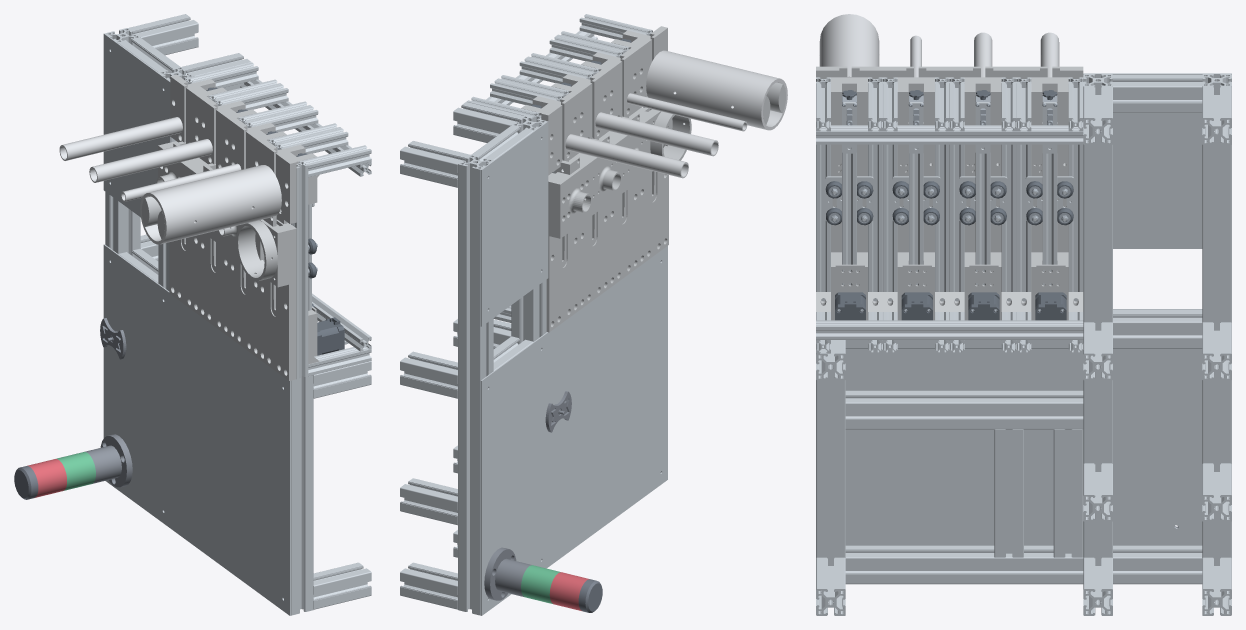
File: line-cad.glb
3 renders of one model, left to right at view 1: azimuth 30°, elevation 25°; view 2: azimuth 150°, elevation 25°; view 3: azimuth 270°, elevation 25°, orthographic. The views are drawn at different scales.
Visible parts, largest first — view 1: cad_035_body_0, cad_336_body_0, cad_032_body_0, cad_017_body_0, cad_317_body_0, cad_333_body_0, cad_097_body_0, cad_329_body_0, cad_328_body_0, cad_335_body_0, cad_337_body_0, cad_018_body_0 (+30 smaller); view 2: cad_035_body_0, cad_005_body_0, cad_032_body_0, cad_336_body_0, cad_330_body_0, cad_315_body_0, cad_328_body_0, cad_329_body_0, cad_317_body_0, cad_337_body_0, cad_012_body_0, cad_335_body_0 (+26 smaller); view 3: cad_035_body_0, cad_032_body_0, cad_006_body_0, cad_005_body_0, cad_029_body_0, cad_022_body_0, cad_017_body_0, cad_340_body_0, cad_341_body_0, cad_030_body_0, cad_031_body_0, cad_007_body_0 (+64 smaller).
Part boxes in pixels (x1,y1,x2,y2): cad_035_body_0: (103,244,290,615); cad_336_body_0: (140,165,281,244); cad_032_body_0: (103,33,171,217); cad_017_body_0: (283,375,313,615); cad_317_body_0: (259,279,296,380); cad_333_body_0: (236,219,289,287); cad_097_body_0: (291,160,308,378); cad_329_body_0: (199,233,229,336); cad_328_body_0: (229,252,258,358); cad_335_body_0: (89,139,212,182); cad_337_body_0: (59,117,182,160); cad_018_body_0: (313,562,371,609); cad_035_body_0: (480,246,667,615); cad_005_body_0: (458,154,493,615); cad_032_body_0: (480,121,548,326); cad_336_body_0: (646,50,787,130); cad_330_body_0: (546,225,578,332); cad_315_body_0: (548,160,591,238); cad_328_body_0: (609,181,638,288); cad_329_body_0: (579,203,608,310); cad_317_body_0: (639,172,668,266); cad_337_body_0: (565,134,688,178); cad_012_body_0: (400,141,470,187); cad_335_body_0: (595,112,718,156); cad_035_body_0: (845,309,1202,545); cad_032_body_0: (1083,73,1231,248); cad_006_body_0: (1083,74,1112,565); cad_005_body_0: (1202,74,1231,565); cad_029_body_0: (845,390,1083,429); cad_022_body_0: (845,545,1083,584); cad_017_body_0: (816,372,845,565); cad_340_body_0: (816,320,1083,339); cad_341_body_0: (816,125,1083,144); cad_030_body_0: (1053,429,1083,557); cad_031_body_0: (994,429,1023,557); cad_007_body_0: (1113,74,1202,113).
Size of the model in its own units: 0.353 by 0.75 by 0.56.
